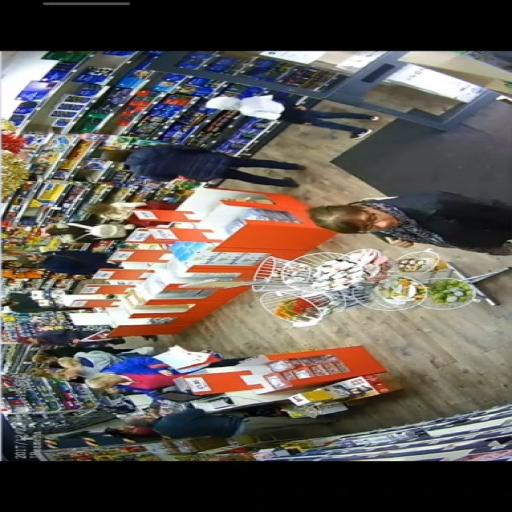workers: (43, 355, 171, 380), (82, 373, 203, 396), (14, 248, 116, 274)
